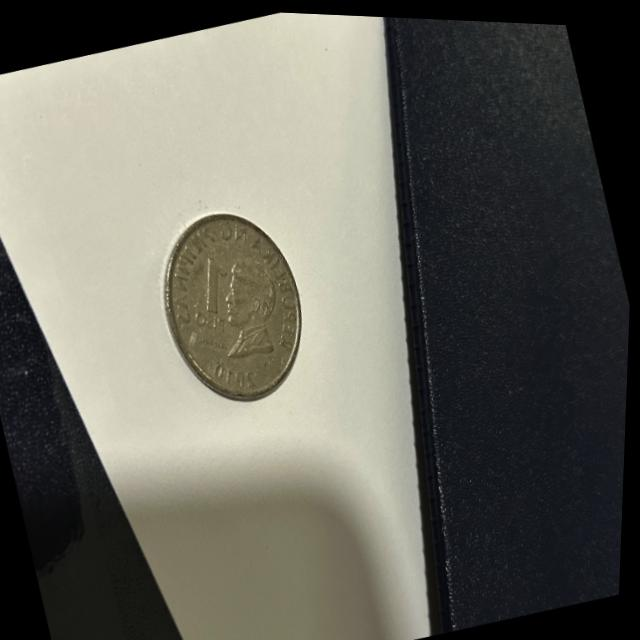1_Old_Front: (176, 247, 249, 341)
